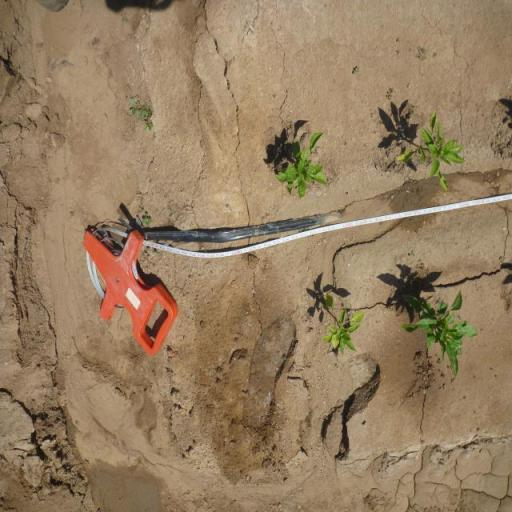plant: (400, 288, 479, 382), (390, 104, 468, 196), (273, 129, 332, 200), (319, 290, 367, 361)
weed: (127, 93, 155, 134), (414, 45, 429, 61), (141, 209, 152, 227), (120, 8, 130, 24), (384, 86, 395, 100), (154, 250, 164, 259), (352, 66, 360, 76), (408, 249, 416, 258), (282, 355, 288, 362), (169, 206, 173, 216), (295, 304, 301, 310), (104, 112, 108, 120)
